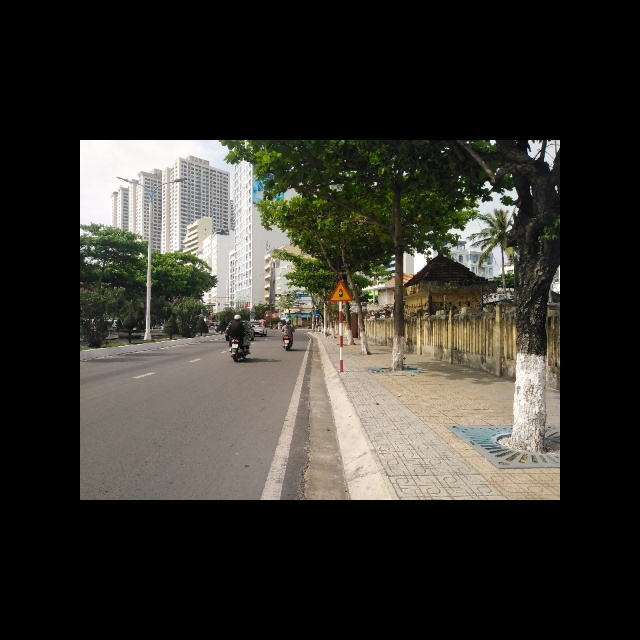Giao nhau có tín hiệu đèn: (328, 278, 354, 302)
